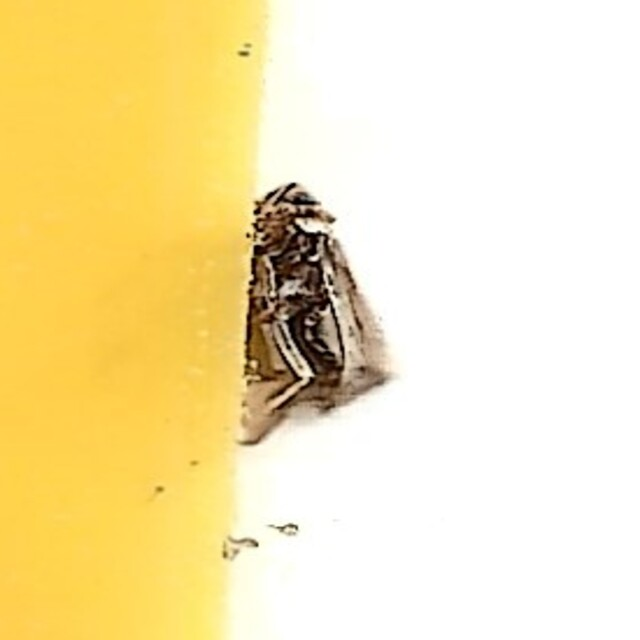Hemiptera: (233, 183, 407, 457)
